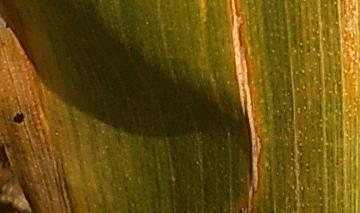tarspot: (12, 110, 25, 125), (3, 19, 10, 30), (1, 41, 7, 48)
